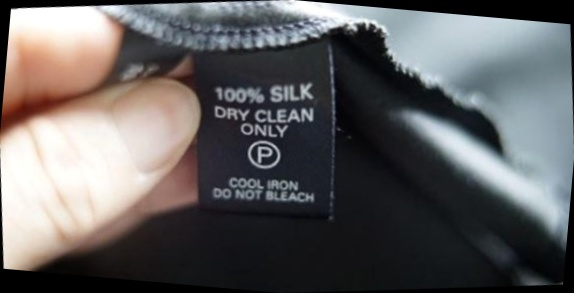dry_clean_any_solvent_except_trichloroethylene: (245, 135, 285, 172)
